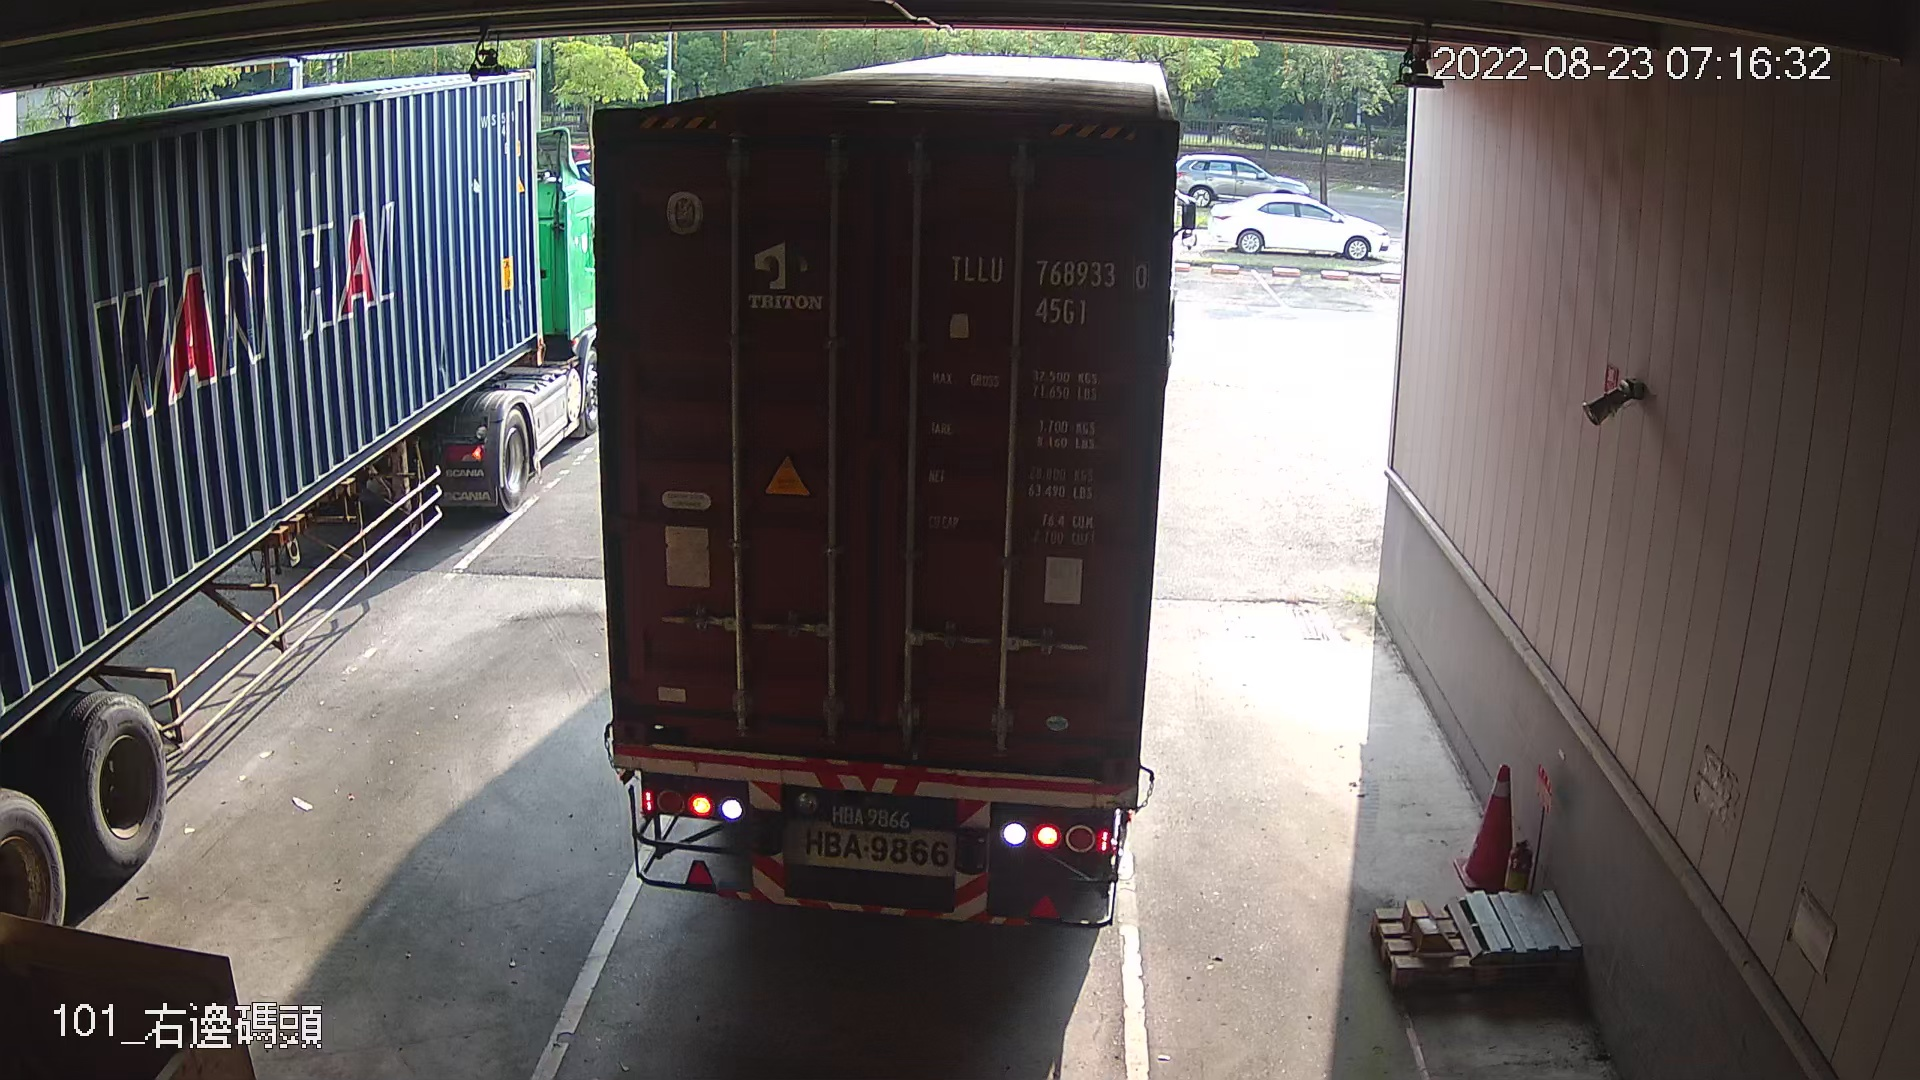container: (935, 235, 1156, 332)
